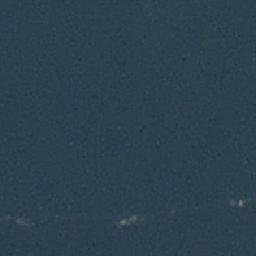debris: (3, 215, 28, 225), (117, 216, 139, 225), (227, 200, 246, 207)
